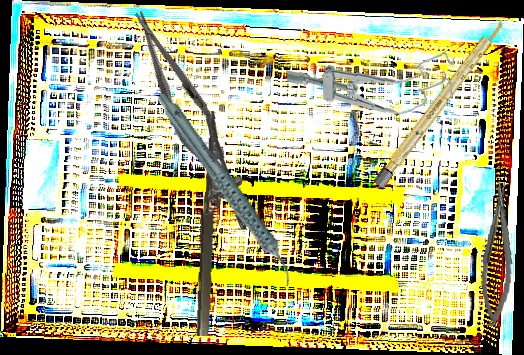Handpiece: (155, 74, 295, 306)
Needle Holder: (120, 2, 234, 176), (194, 110, 252, 339), (476, 180, 521, 328)
Scalpel Handle: (372, 16, 508, 189)
Speculum: (285, 51, 457, 119)
